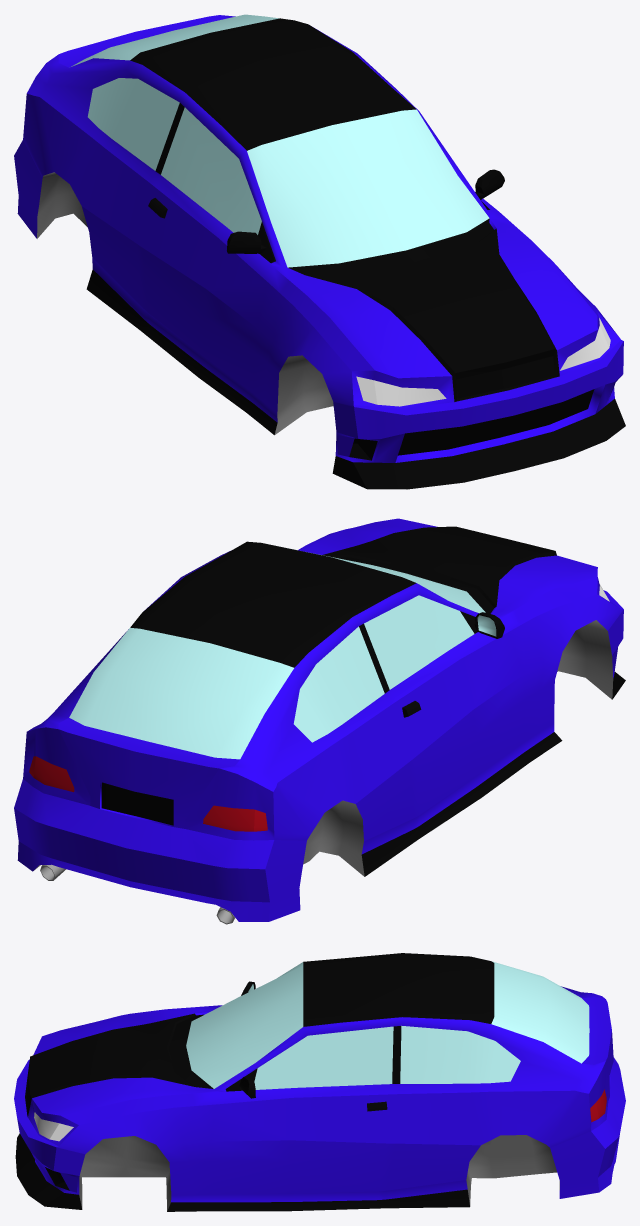
File: S64Compact_Body_2.fbx
The picture shows the model from 3 angles, top to bottom: view 1: azimuth 30°, elevation 25°; view 2: azimuth 150°, elevation 25°; view 3: azimuth 270°, elevation 25°; orthographic projection. The views are drawn at different scales.
Parts seen in each view (by area): view 1: Cube; view 2: Cube; view 3: Cube.
Part boxes in pixels (x1=…): Cube: x1=14, y1=14, x2=625, y2=489; Cube: x1=14, y1=518, x2=625, y2=924; Cube: x1=14, y1=953, x2=625, y2=1211.
Bounding box in the file's own units: 140 × 104 × 328.
